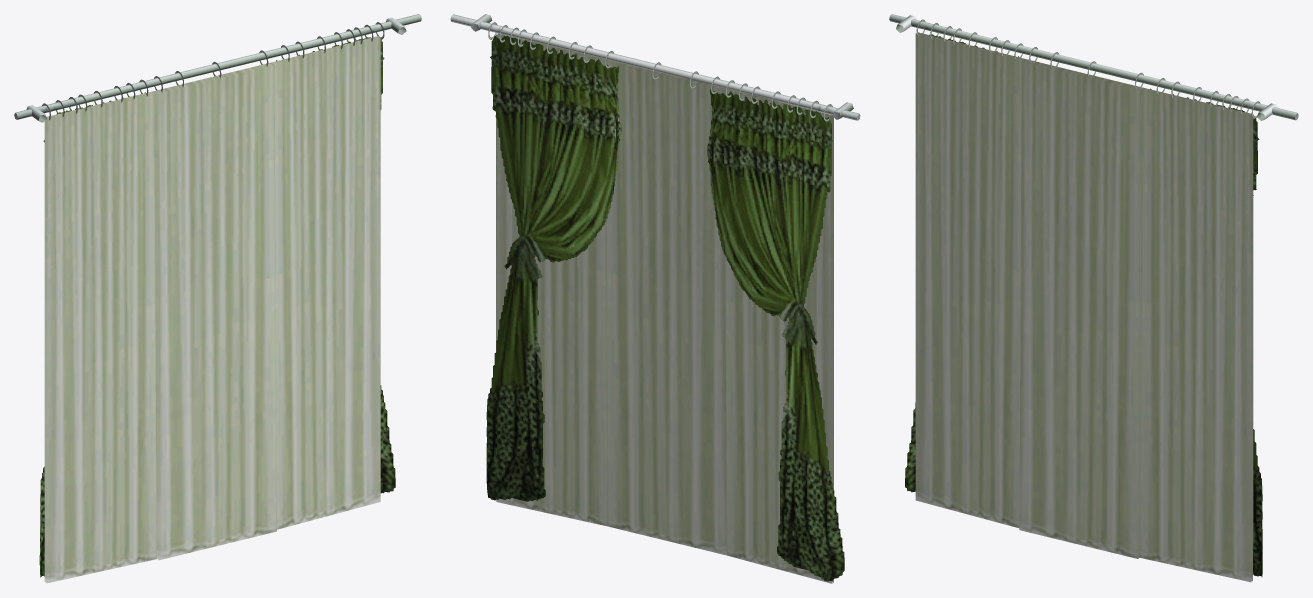
File: furni_0200150_01.FBX
The picture shows the model from 3 angles, left to right: view 1: azimuth 30°, elevation 25°; view 2: azimuth 150°, elevation 25°; view 3: azimuth 330°, elevation 25°; orthographic projection.
Parts seen in each view (by area): view 1: furni_0200150_01; view 2: furni_0200150_01; view 3: furni_0200150_01.
Part boxes in pixels (bbox=[...]): furni_0200150_01: bbox=[14, 14, 421, 583]; furni_0200150_01: bbox=[450, 14, 860, 583]; furni_0200150_01: bbox=[889, 14, 1298, 582].
Size of the model in its own units: 193 by 218 by 11.14.
Materials: 2 (2 with a texture image).
